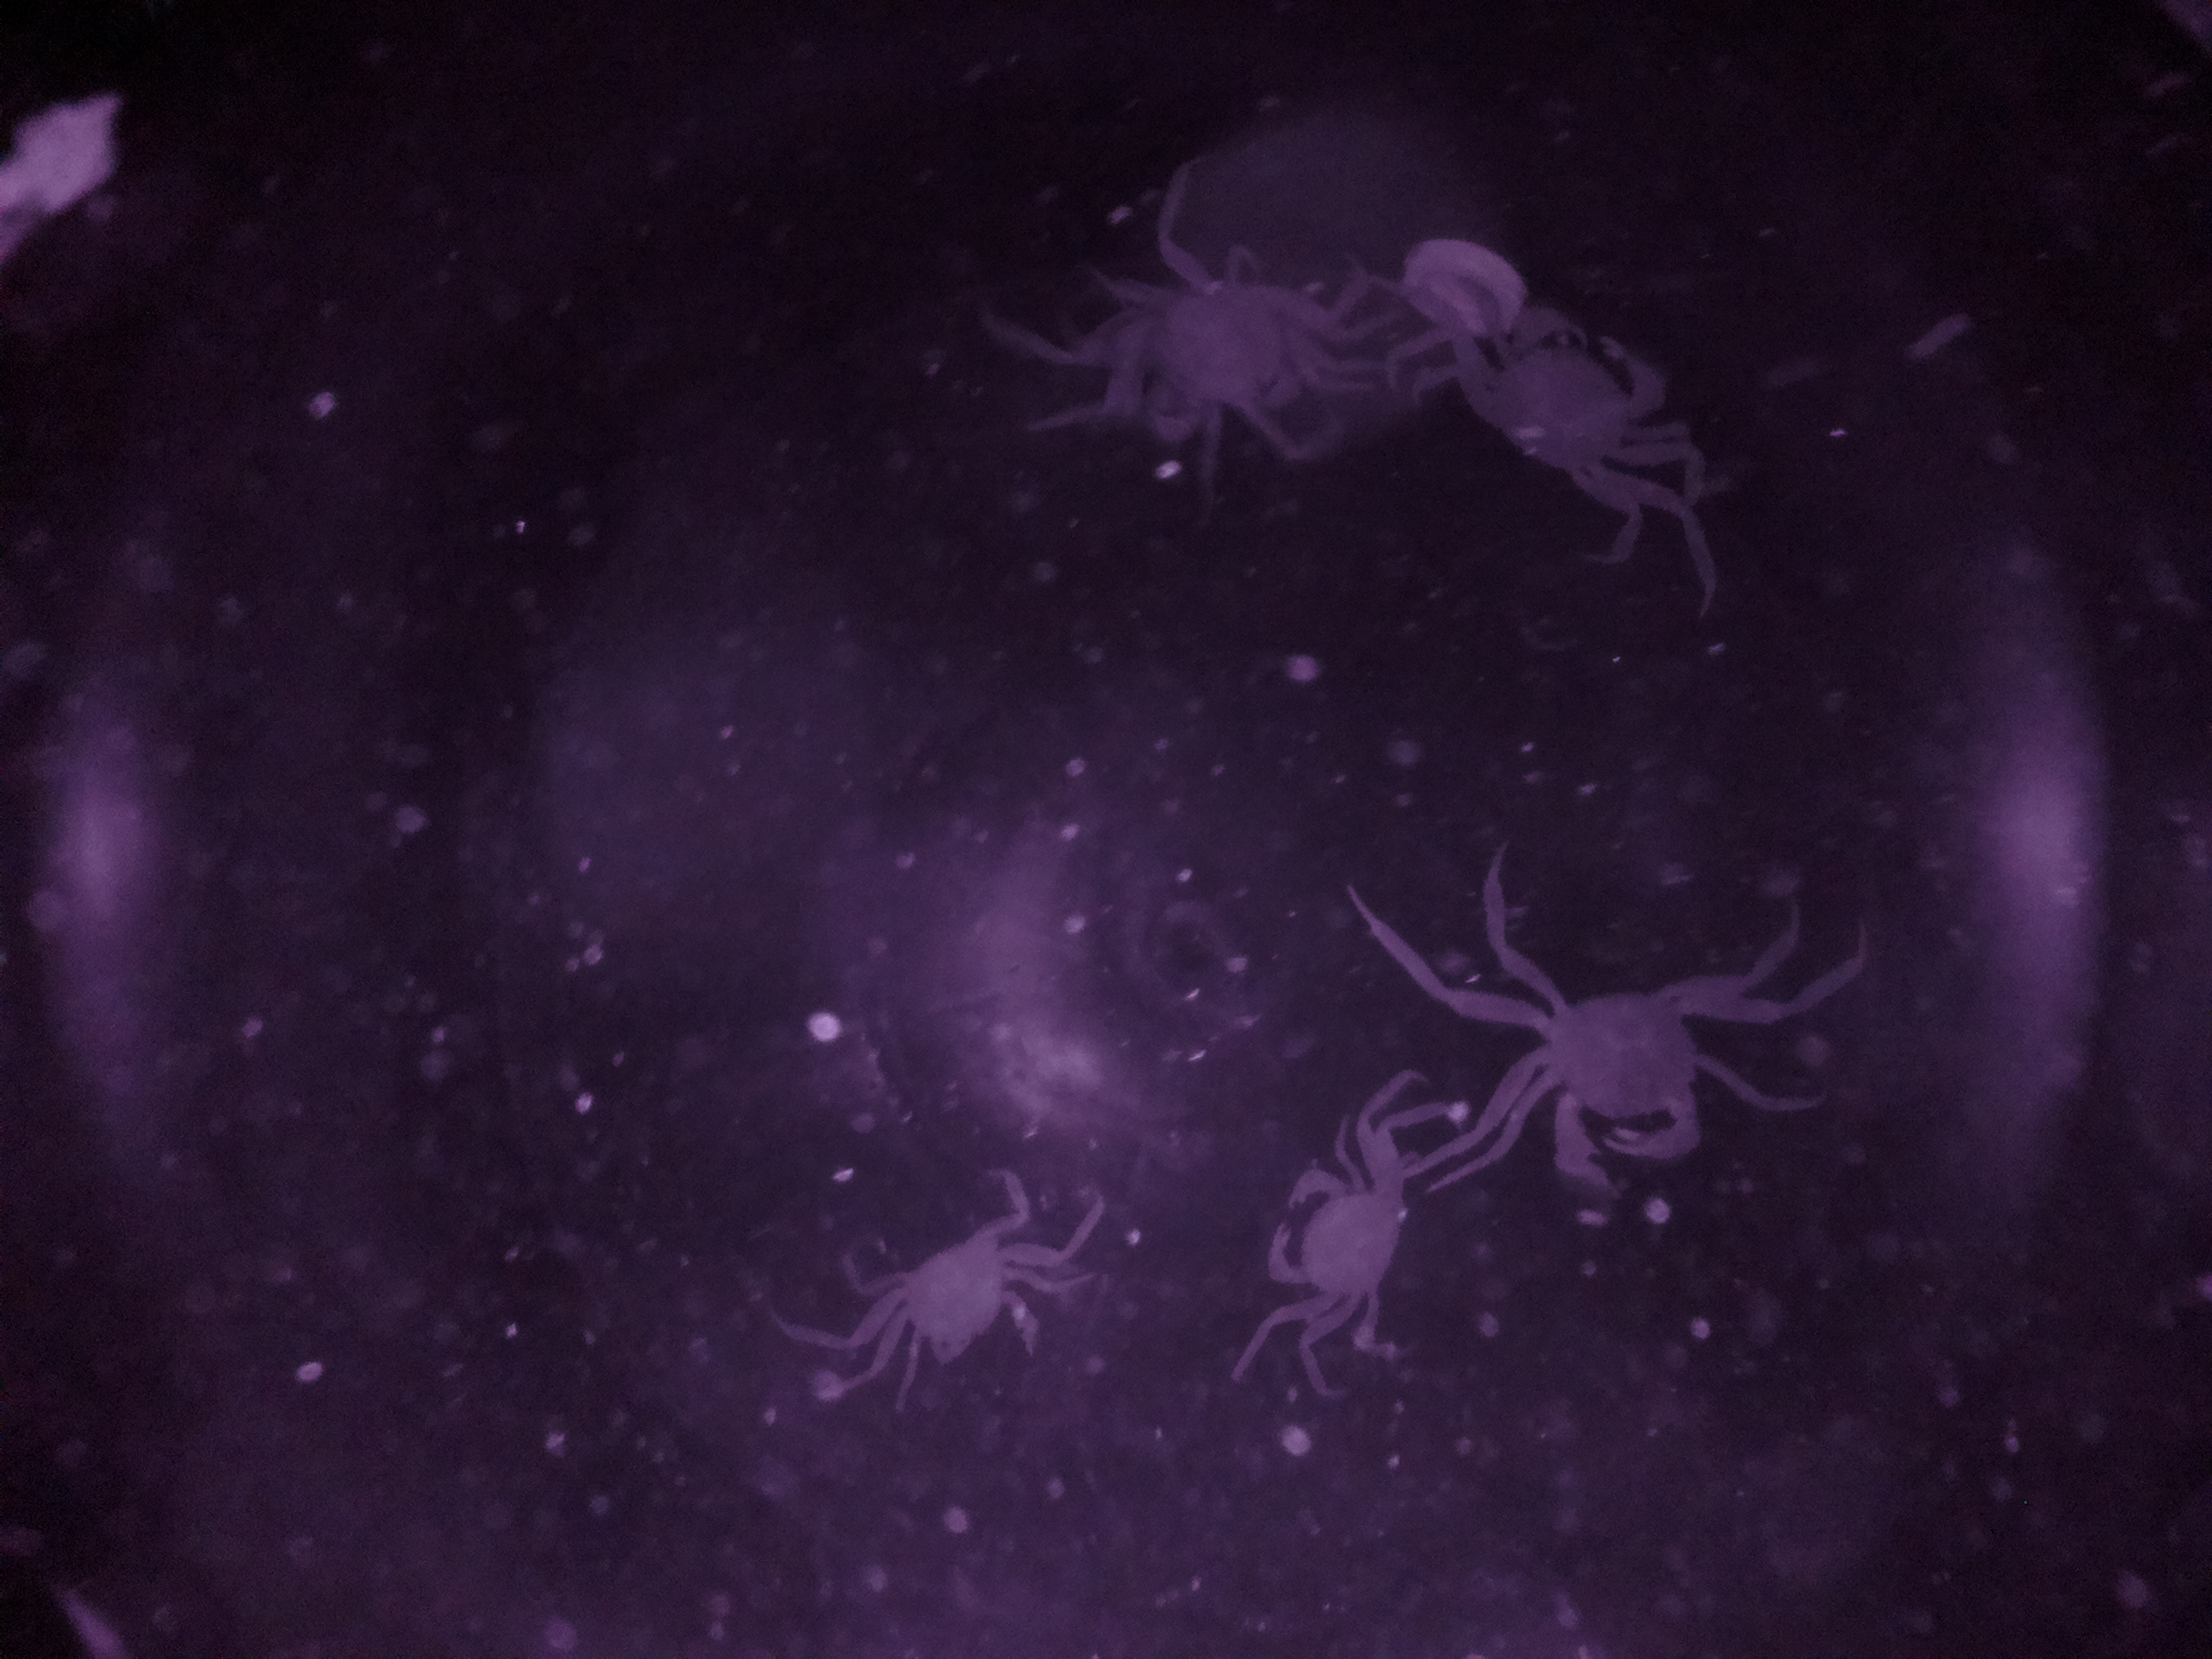Crab: (1460, 953, 1764, 1201), (820, 1195, 1080, 1406), (1251, 1129, 1449, 1344)
